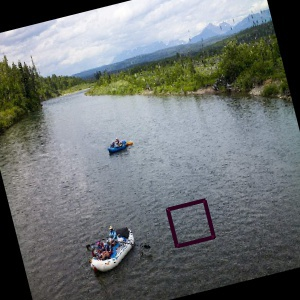square: (164, 197, 216, 248)
